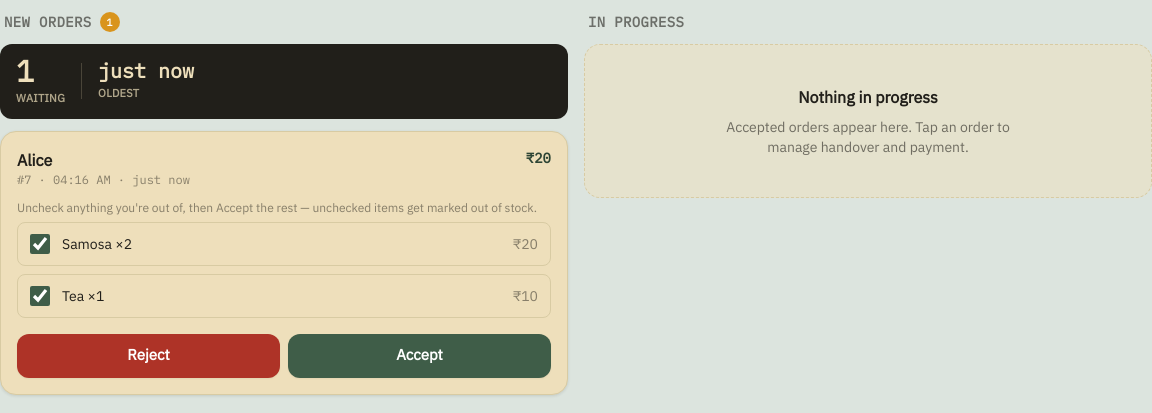
Test: Shop Accept/Reject do not flag stock when the primary action itself fails (STATUS.md § 9.6 U2) › does not mark the unchecked item out of stock when accept itself fails
expect the text "Samosa ×2" is shown: met, box [62, 234, 132, 252]
Click the checkbox labelled "Samosa ×2 ₹20": (40, 244) [30, 234, 50, 254]
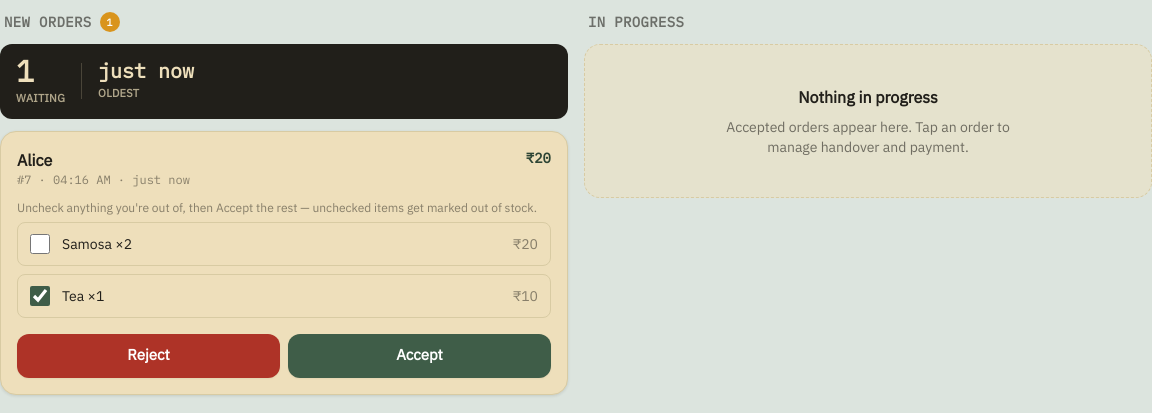
Click the button "Accept": (420, 356) [288, 334, 551, 378]
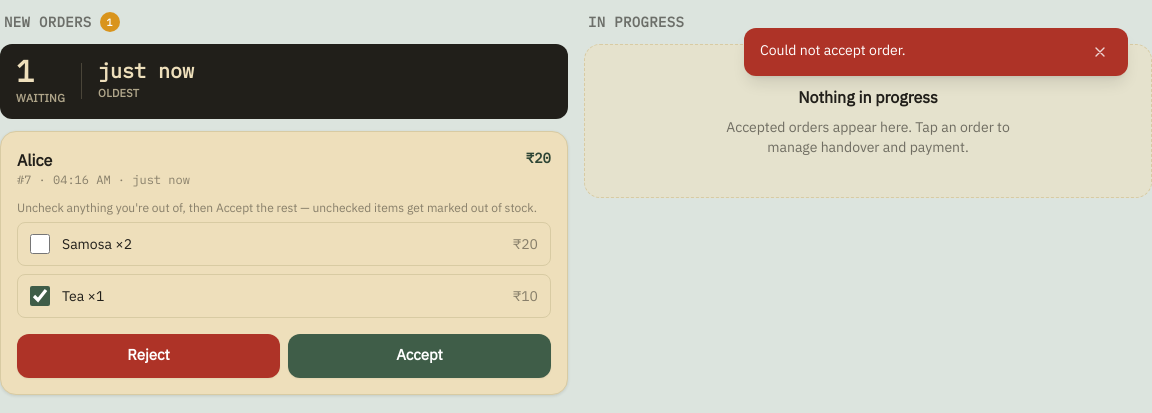
expect the message "Could not accept order." is shown: met, box [744, 28, 1128, 76]
